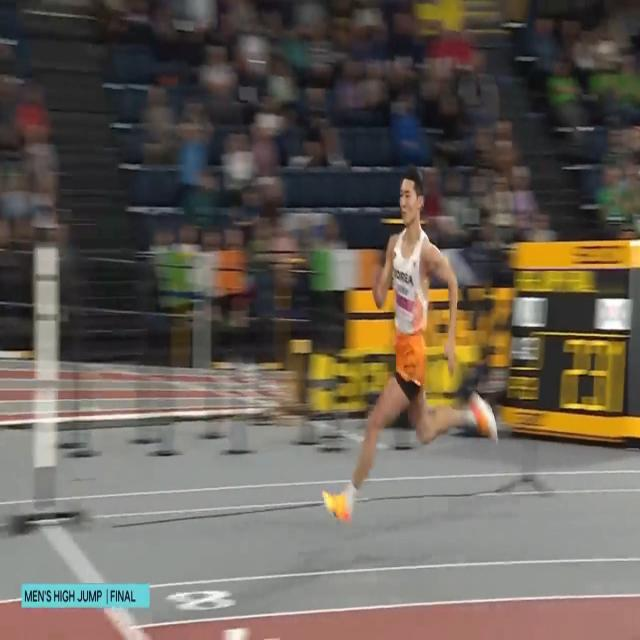run: (320, 160, 500, 525)
